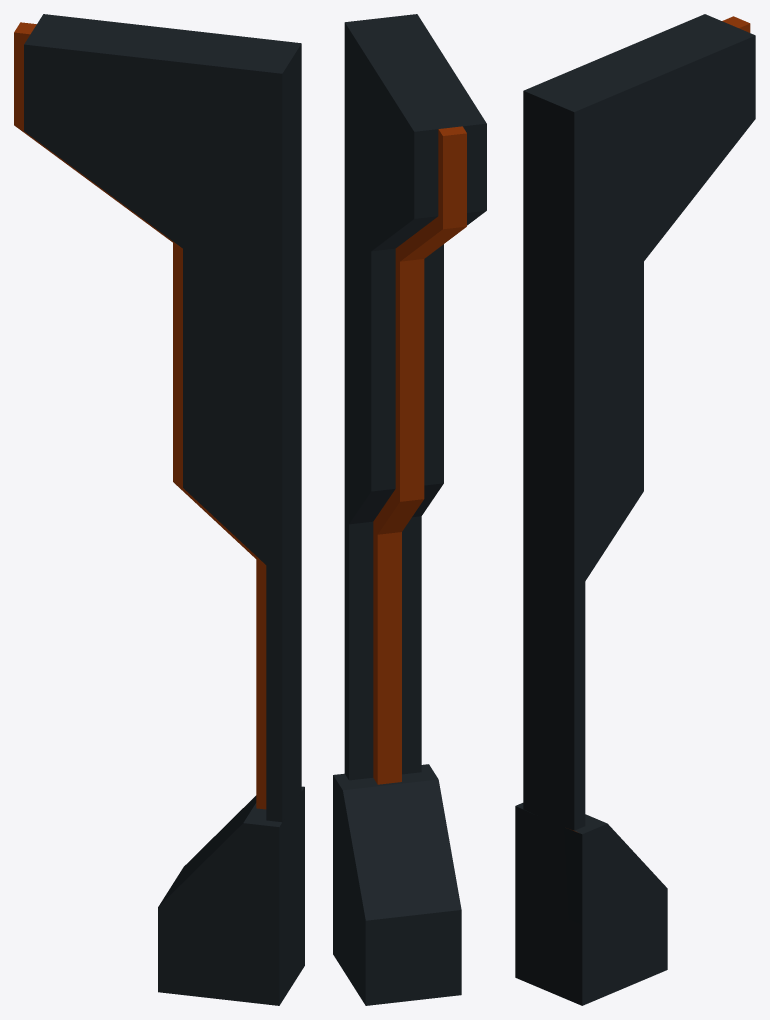
The model's file is SM_Corner.fbx.
The picture shows the model from 3 angles, left to right: view 1: azimuth 30°, elevation 25°; view 2: azimuth 150°, elevation 25°; view 3: azimuth 270°, elevation 25°; orthographic projection. The views are drawn at different scales.
Visible parts, largest first — view 1: Corner.001; view 2: Corner.001; view 3: Corner.001.
Boxes of the visible parts, x1,y1,x2,y2 form: Corner.001: (14, 14, 304, 1005); Corner.001: (333, 14, 486, 1005); Corner.001: (515, 14, 755, 1005).
Size of the model in its own units: 61.23 by 250 by 61.23.
